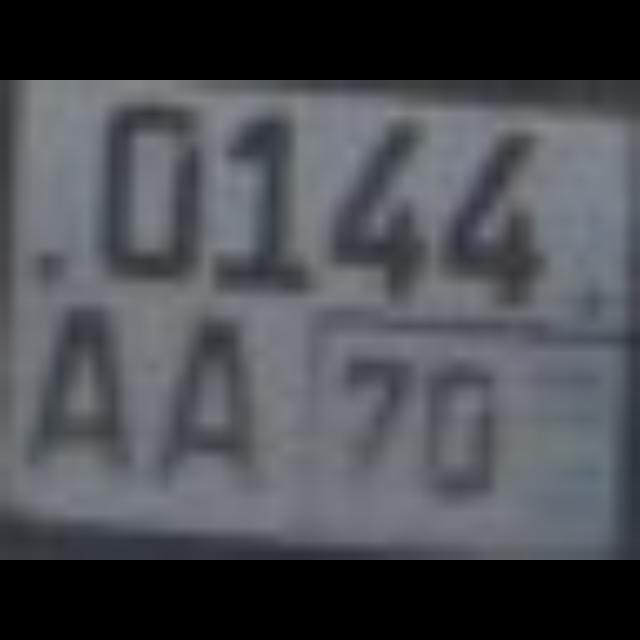0: (80, 80, 186, 254), (400, 334, 480, 466)
1: (200, 94, 294, 280)
4: (426, 106, 534, 294), (306, 94, 399, 280)
7: (320, 334, 400, 466)
A: (14, 281, 120, 454), (134, 294, 240, 466)
